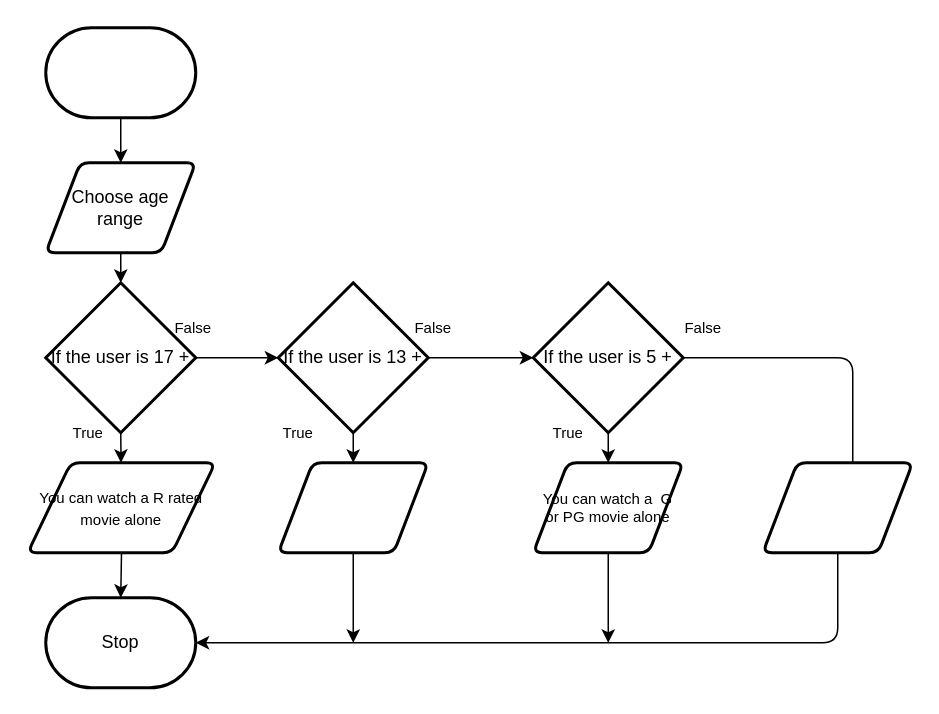
Some shapes in this 939 by 714 pixel diagram are drawn without their labels. The centre of each missing label's shape, as x and y in pixels:
"Start" belongs at (120,72).
"You are too young" belongs at (837,507).
"You can watch a PG-13 movie alone" belongs at (352,507).
